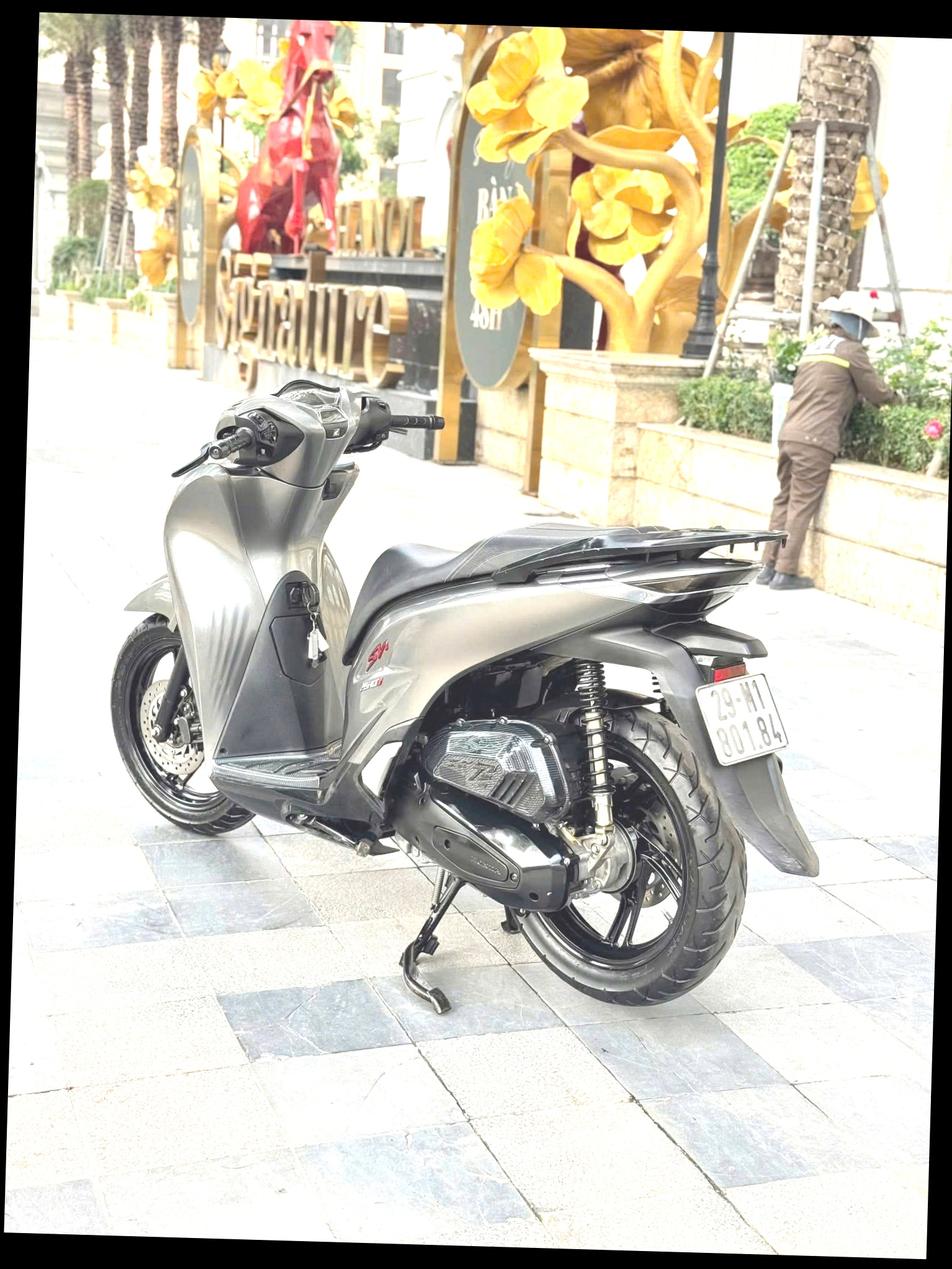Bien-so: (698, 654, 805, 762)
